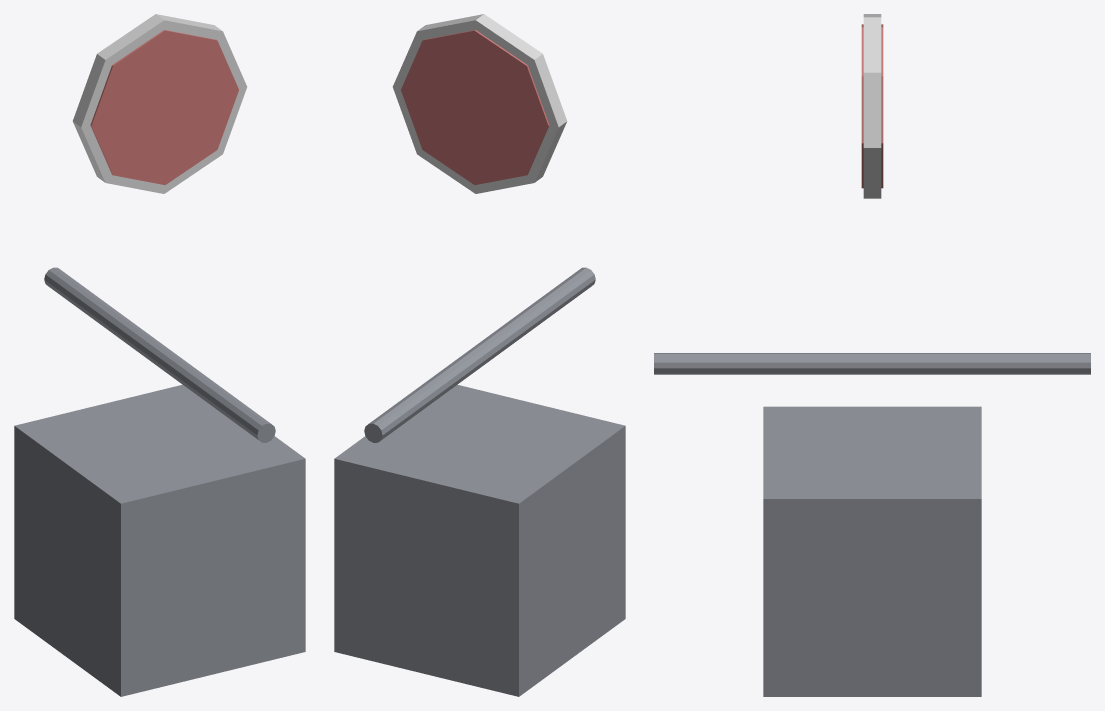
The model's file is inf_sign_stop.glb.
The picture shows the model from 3 angles, left to right: view 1: azimuth 30°, elevation 25°; view 2: azimuth 150°, elevation 25°; view 3: azimuth 270°, elevation 25°; orthographic projection. The views are drawn at different scales.
Parts seen in each view (by area): view 1: world; view 2: world; view 3: world.
Boxes of the visible parts, x1,y1,x2,y2 form: world: [14, 14, 305, 696]; world: [334, 14, 625, 696]; world: [654, 14, 1090, 696].
Size of the model in its own units: 1 by 3.2 by 2.
